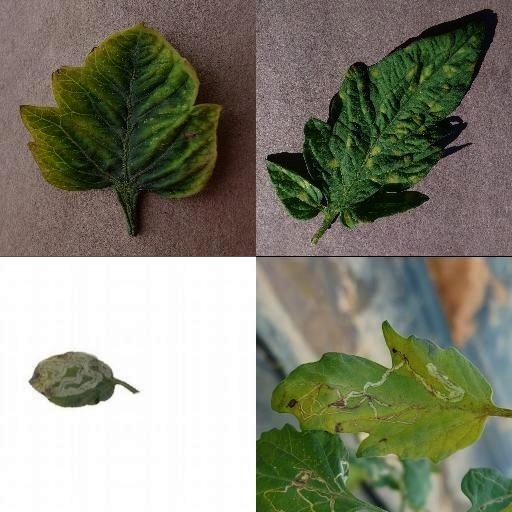Leaf Miner: (271, 318, 493, 464), (28, 349, 116, 406)
Leaf Mold: (268, 22, 484, 230)
Yellow Leaf Curl Virus: (18, 19, 224, 201)
